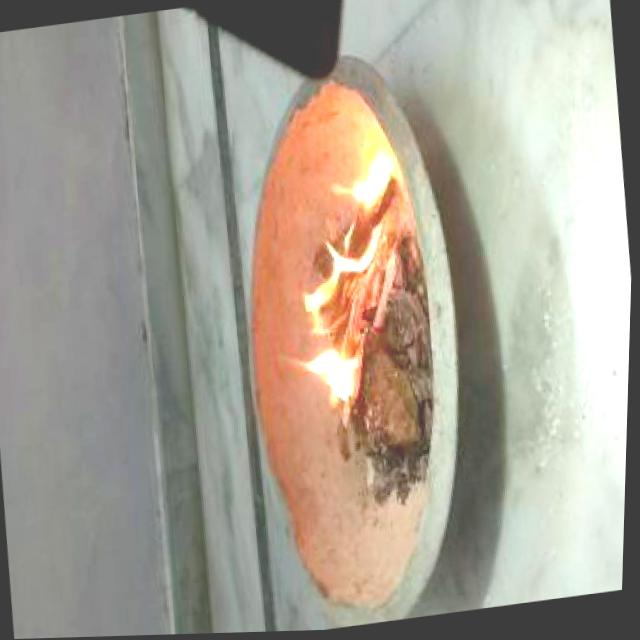Fire: (281, 334, 370, 436), (295, 236, 383, 328), (322, 142, 398, 220)
